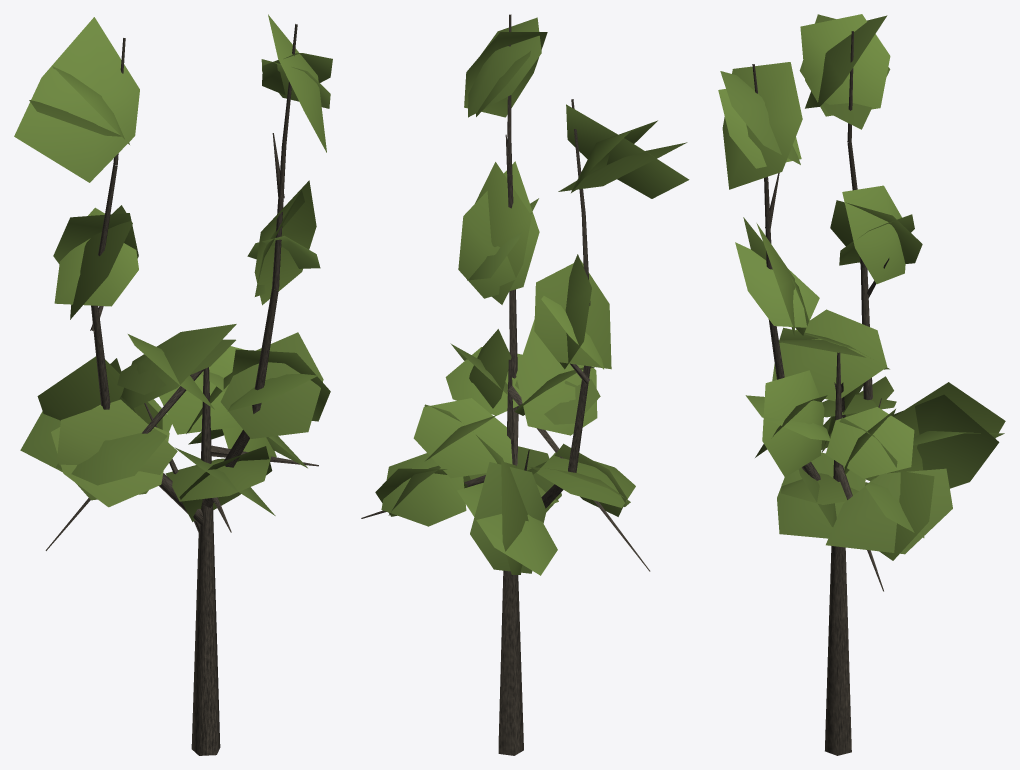
File: open_04_native_base_T016717_lod3.glb
3 views of the same model, side by side, from view 1: azimuth 30°, elevation 25°; view 2: azimuth 150°, elevation 25°; view 3: azimuth 270°, elevation 25° (orthographic). The views are drawn at different scales.
Parts seen in each view (by area): view 1: individual_curved_leaf_sprigs, retained_branches_0, retained_branches_1; view 2: individual_curved_leaf_sprigs, retained_branches_0, retained_branches_1; view 3: individual_curved_leaf_sprigs, retained_branches_1, retained_branches_0.
Boxes of the visible parts, x1,y1,x2,y2 form: individual_curved_leaf_sprigs: [14, 14, 332, 521]; retained_branches_0: [45, 24, 318, 550]; retained_branches_1: [191, 539, 220, 755]; individual_curved_leaf_sprigs: [375, 17, 689, 575]; retained_branches_0: [361, 14, 650, 571]; retained_branches_1: [498, 570, 523, 755]; individual_curved_leaf_sprigs: [718, 14, 1005, 560]; retained_branches_1: [825, 552, 851, 755]; retained_branches_0: [752, 31, 889, 591].
Size of the model in its own units: 7.1 by 15.43 by 5.69.
2 materials, 1 textured.
